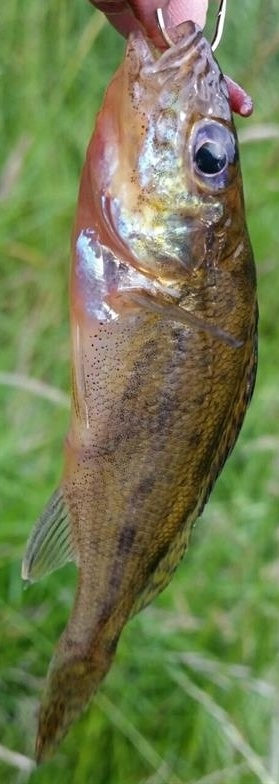Gymnocephalus cernuus: (20, 20, 259, 765)
